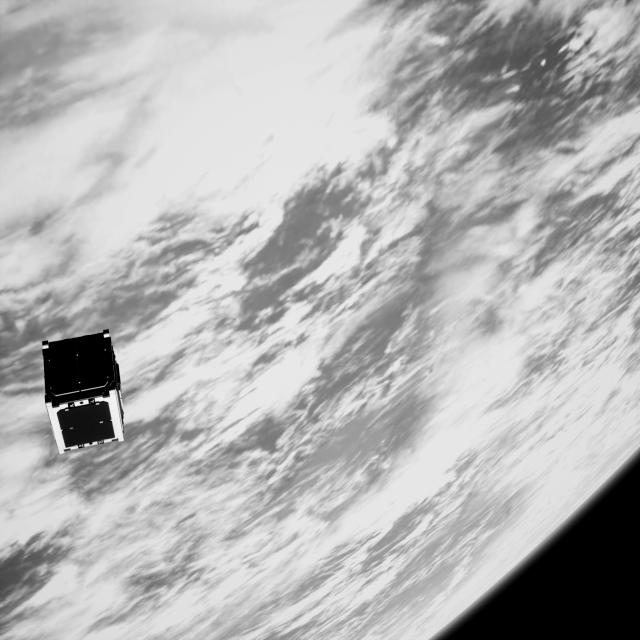medium_debris: (34, 328, 128, 459)
